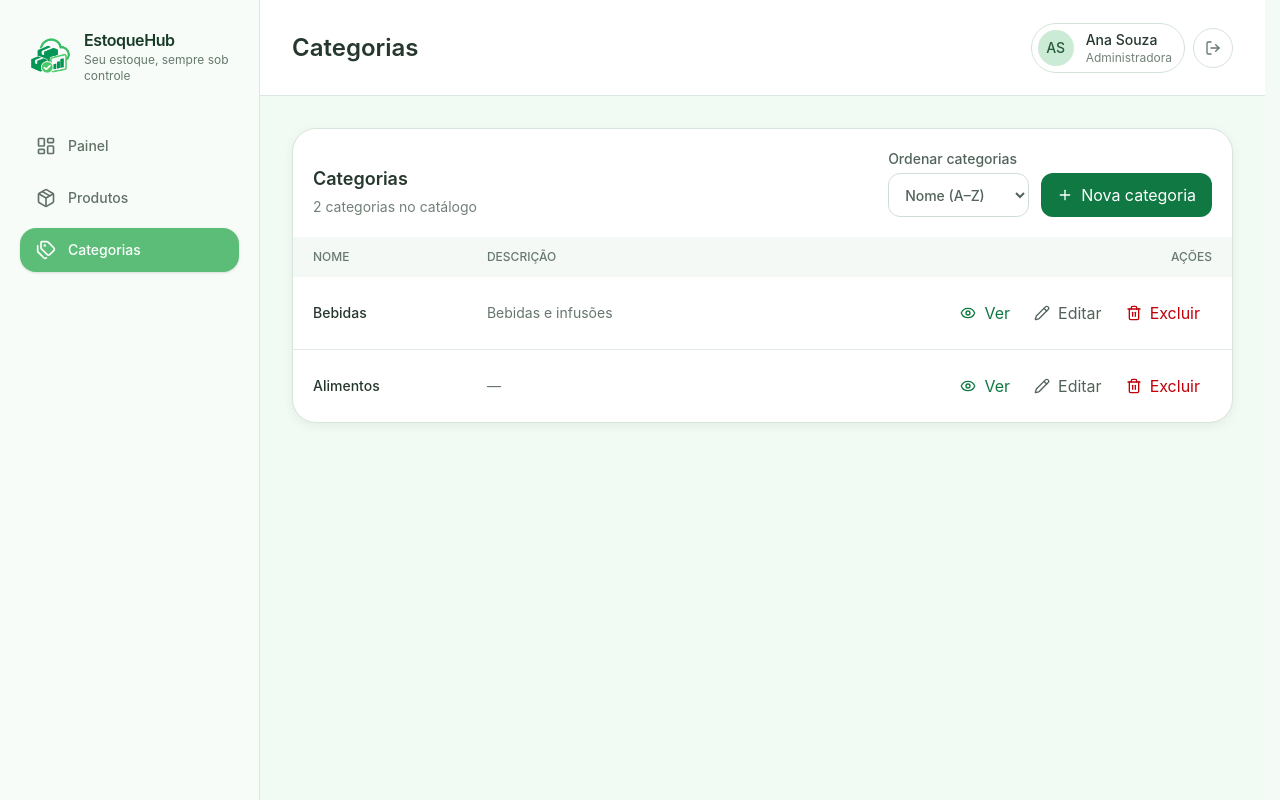
Test: CategoriesPage › lists categories and opens API-backed details
Expected: the text "Bebidas" is shown, [293, 277, 467, 350]
Expected: the text "2 categorias no catálogo" is shown, [313, 197, 477, 217]
Click the button with aria-label "ver bebidas": (985, 313) [948, 293, 1022, 333]
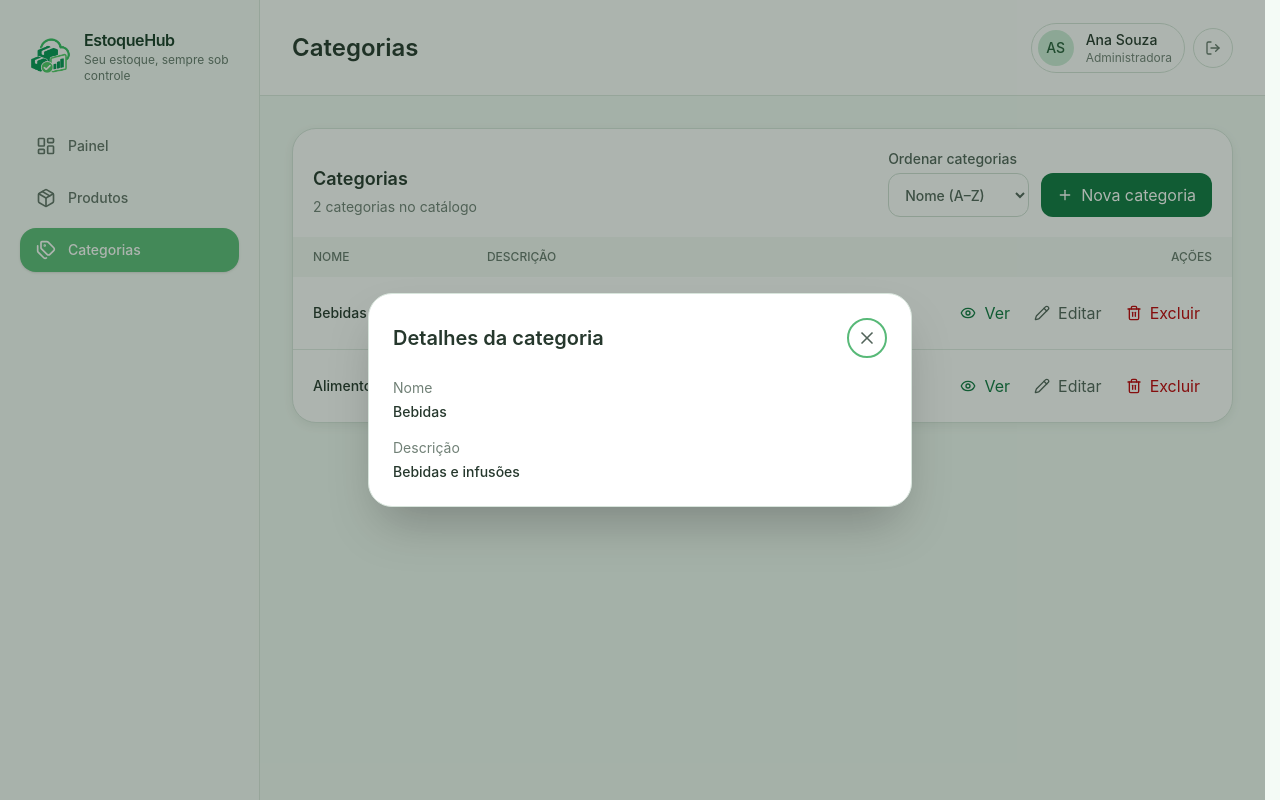
Now the text "Bebidas e infusões" is shown, box [393, 463, 520, 480]
